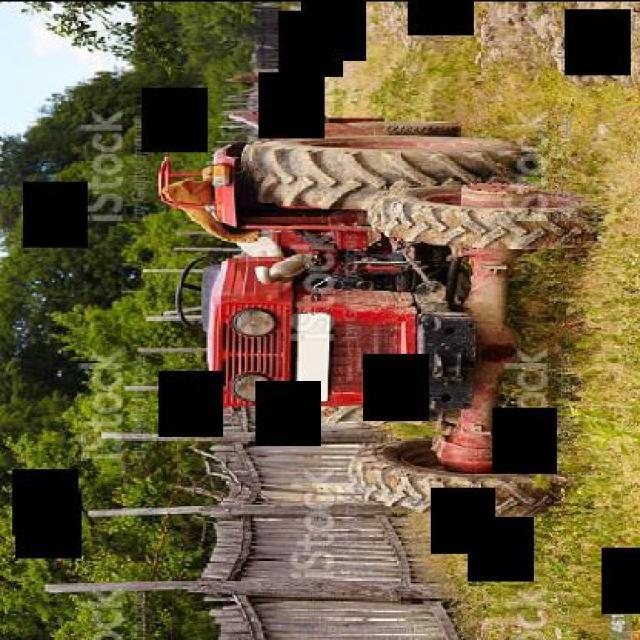Tratores - v5 YOLO V8L 2024-11-13: (104, 115, 634, 571), (140, 246, 589, 505)
